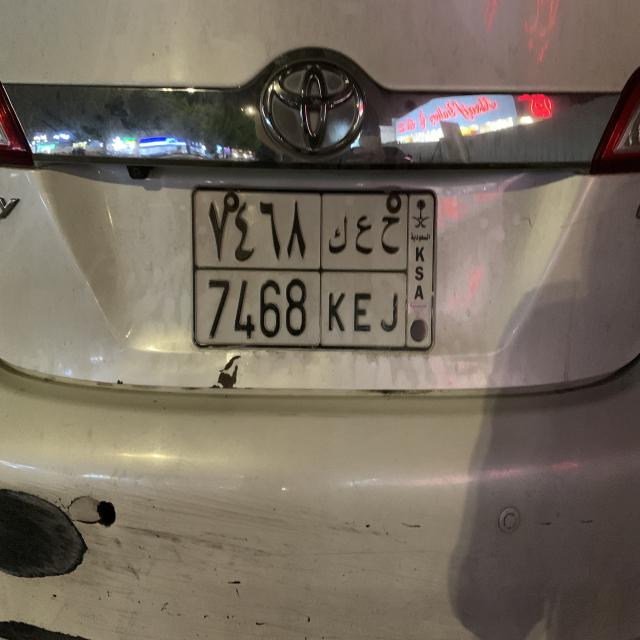license_plate: (187, 180, 439, 357)
